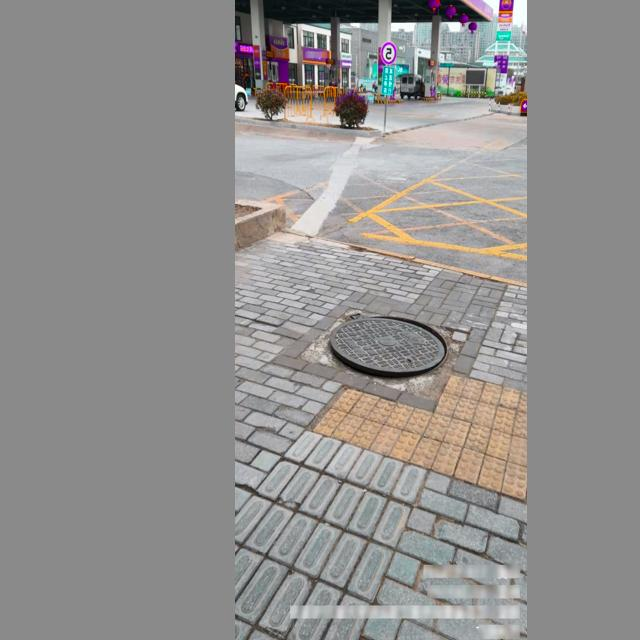uncovered: (325, 306, 459, 392)
